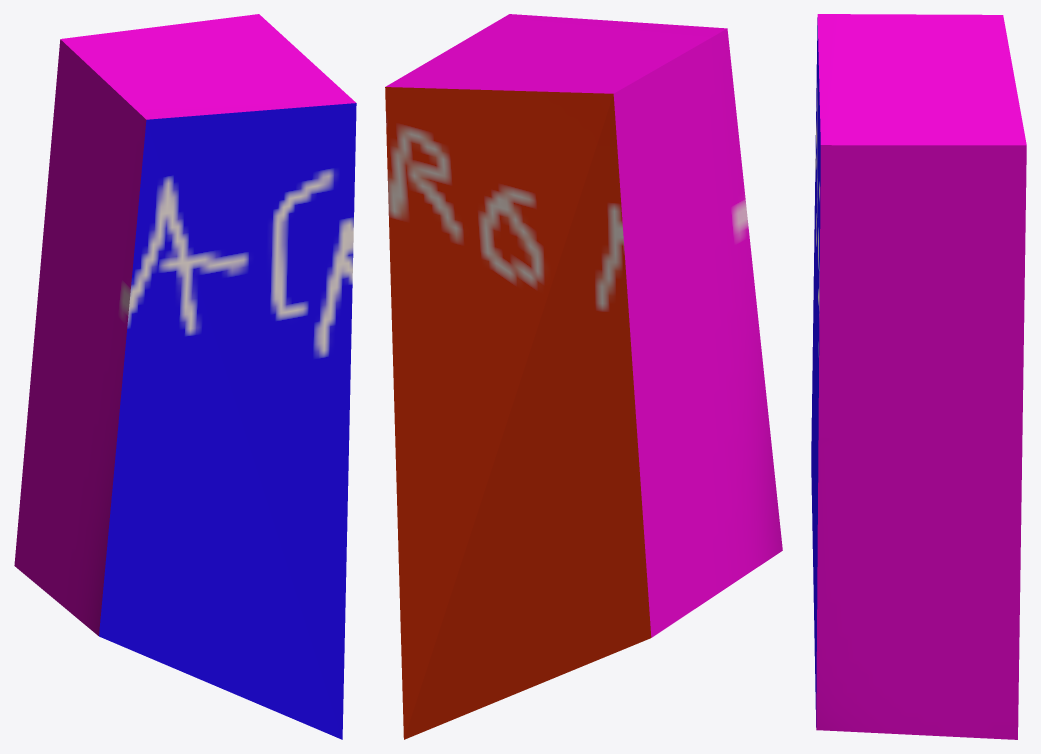
Rendered from Statue2-3.fbx.
The picture shows the model from 3 angles, left to right: view 1: azimuth 30°, elevation 25°; view 2: azimuth 150°, elevation 25°; view 3: azimuth 270°, elevation 25°; orthographic projection. The views are drawn at different scales.
Parts seen in each view (by area): view 1: Cube.006; view 2: Cube.006; view 3: Cube.006.
Boxes of the visible parts, x1,y1,x2,y2 form: Cube.006: (14, 14, 356, 739); Cube.006: (385, 14, 782, 739); Cube.006: (811, 14, 1026, 739).
Size of the model in its own units: 105 by 247 by 76.06.
